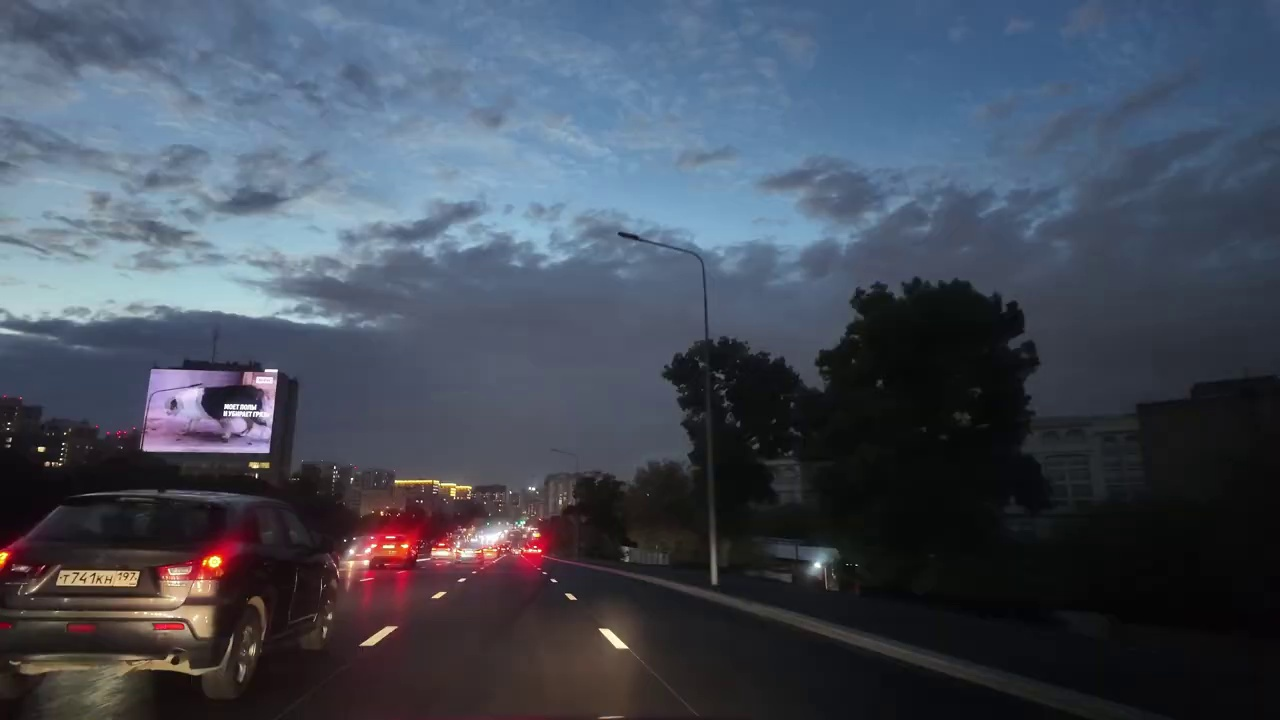apagada: (609, 219, 655, 255)
